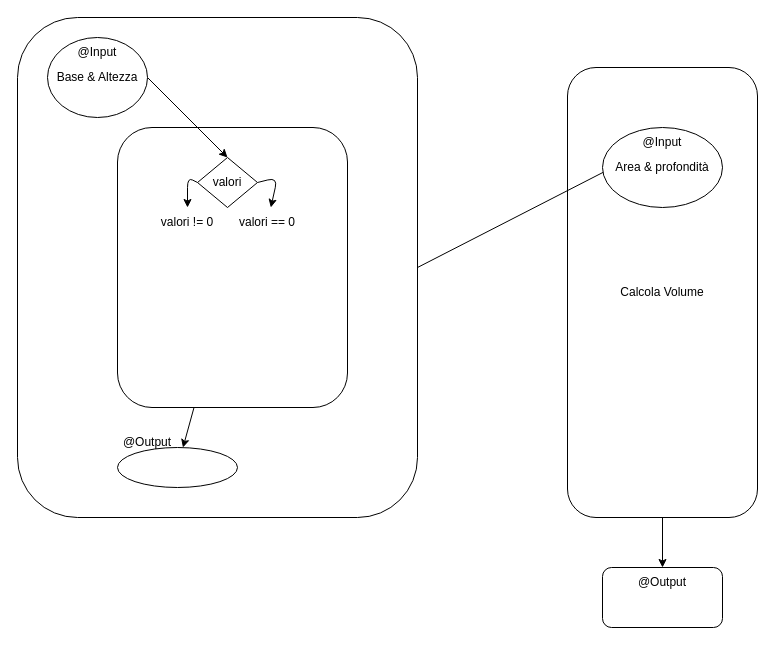
Some shapes in this 775 by 645 pixel diagram are drawn without their labels. The shapes that lost their labels are listed below. From the top down, each one's box as (x1, y1, x2, y2) in pixels, then its label:
(116, 446, 238, 488): Valore Area
(602, 566, 722, 628): Volume
